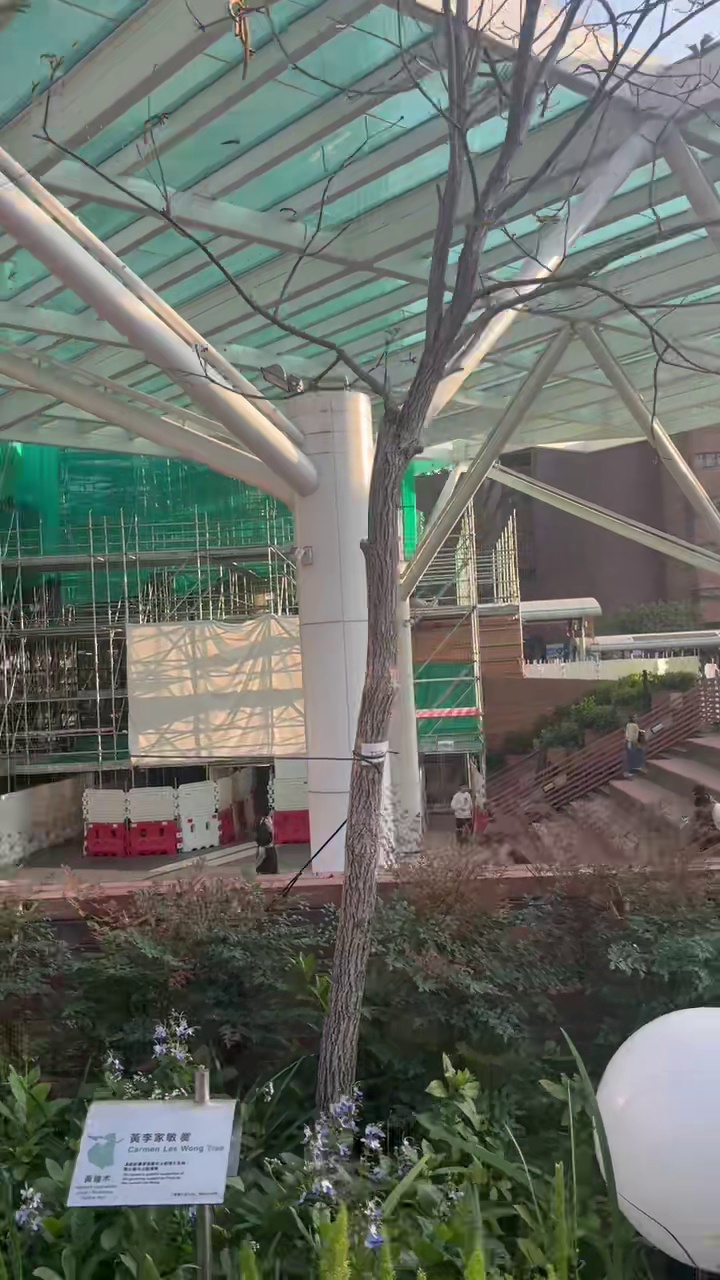Tabebuia chrysantha: (240, 0, 539, 1113)
